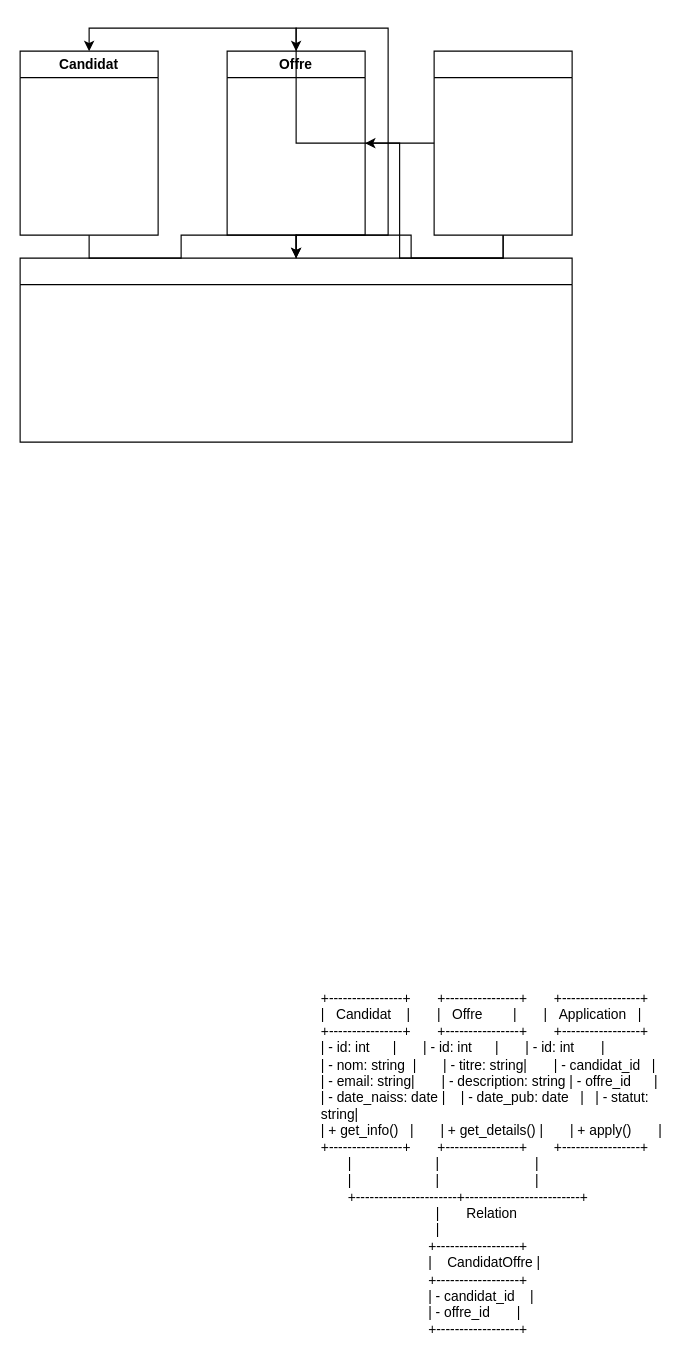
Image size: 684x1358. Some labels were removed from this diagram. Here are the shapes that lost their labels. From the top down, the centre of each, then its label:
the point at 502,142: Application
the point at 295,349: CandidatOffre
